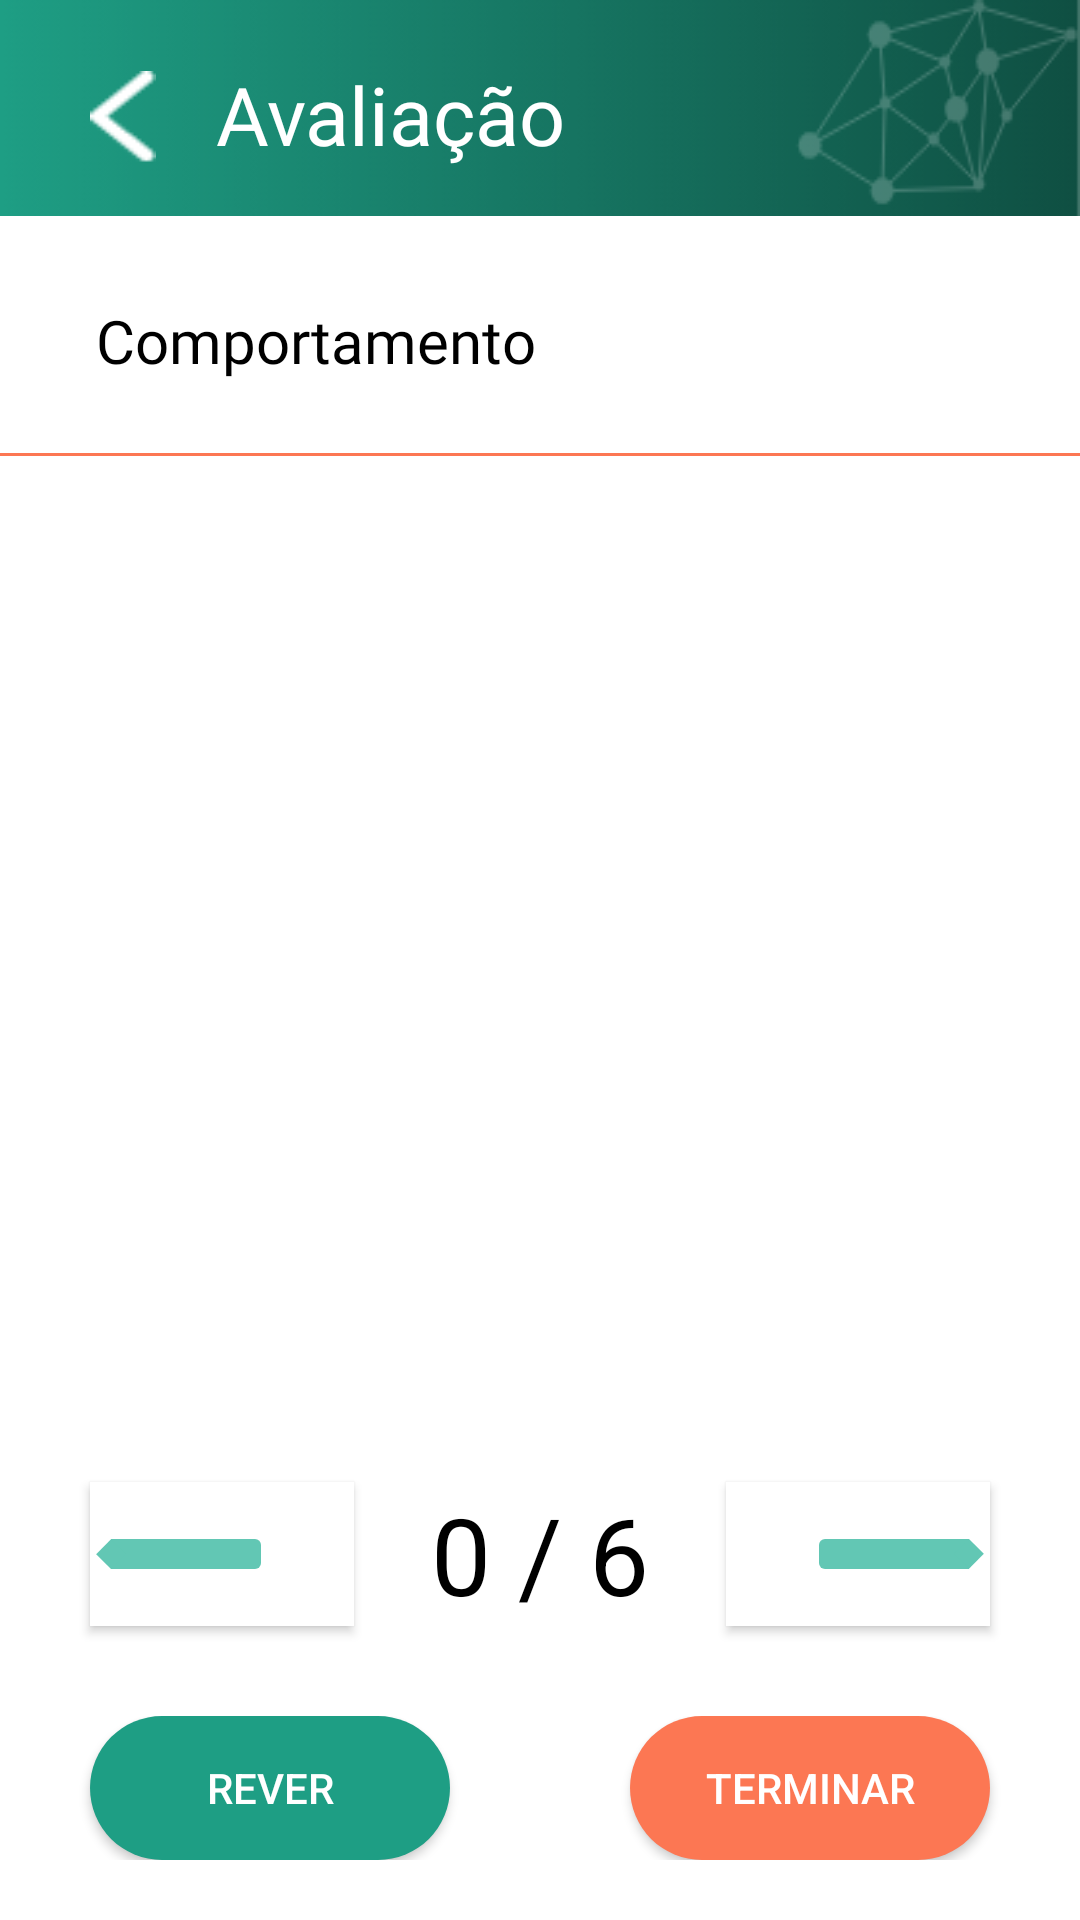

Locate icon controls on the screen. Image size 1080w x 1920h, boxes as (x1, y1, x2, y2).
back arrow: (90, 71, 156, 162)
